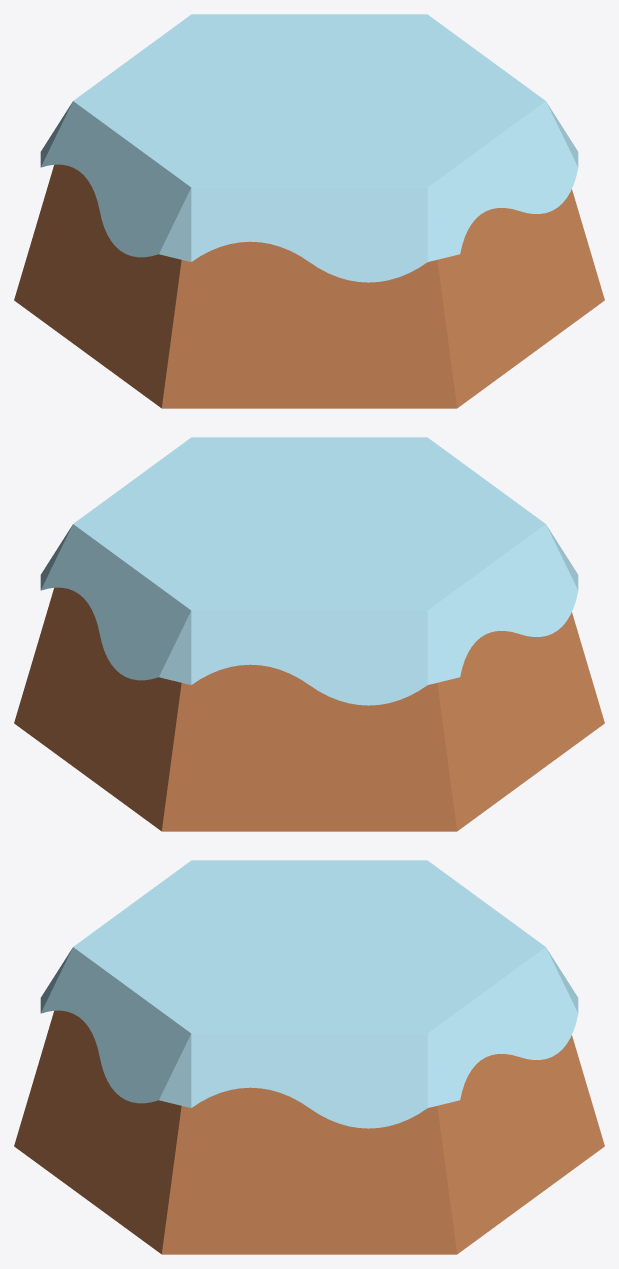
Rendered from blockSnowHexagonLow.obj.
3 renders of one model, top to bottom at view 1: azimuth 30°, elevation 25°; view 2: azimuth 150°, elevation 25°; view 3: azimuth 270°, elevation 25°, orthographic.
Visible parts, largest first — view 1: blockSnowHexagonLow; view 2: blockSnowHexagonLow; view 3: blockSnowHexagonLow.
Part boxes in pixels (bbox=[...]): blockSnowHexagonLow: bbox=[14, 14, 604, 408]; blockSnowHexagonLow: bbox=[14, 437, 604, 831]; blockSnowHexagonLow: bbox=[14, 860, 604, 1254].
Bounding box in the file's own units: 1 × 0.4298 × 1.15.
